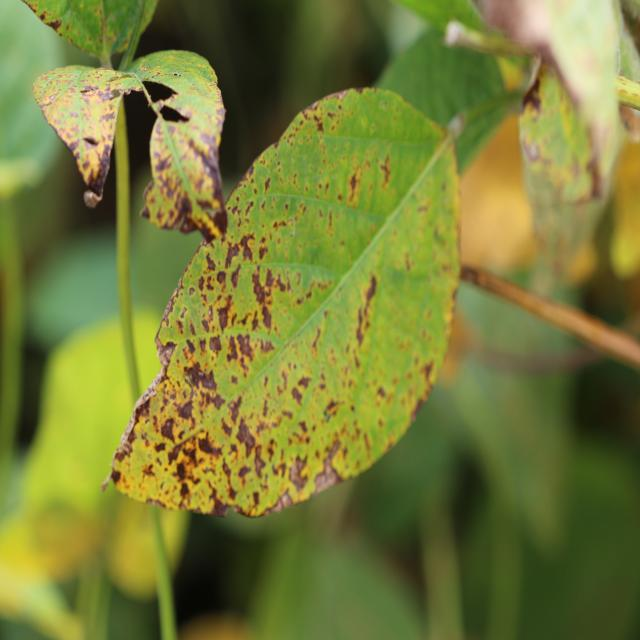Bacterial_Blight: (190, 135, 226, 214), (78, 137, 116, 206), (182, 356, 223, 401), (355, 271, 379, 347), (224, 330, 267, 369), (250, 266, 281, 317), (312, 455, 341, 494), (586, 151, 607, 201), (521, 72, 542, 115), (235, 417, 257, 452), (288, 457, 308, 490), (158, 103, 191, 123), (196, 431, 221, 457), (619, 105, 639, 136), (156, 339, 176, 369), (134, 391, 153, 421), (208, 493, 230, 517), (159, 416, 178, 443), (522, 136, 541, 163), (216, 299, 232, 331), (378, 153, 392, 188), (224, 241, 240, 269), (347, 170, 360, 200), (175, 458, 189, 482), (324, 399, 341, 418), (290, 384, 304, 406), (204, 251, 217, 274), (79, 85, 103, 96), (313, 112, 325, 133), (109, 467, 122, 485), (48, 17, 62, 31), (376, 385, 388, 400), (82, 136, 99, 146), (252, 490, 260, 507), (39, 12, 47, 22), (188, 286, 195, 297), (172, 71, 182, 77)
Soybean: (106, 88, 462, 516)
